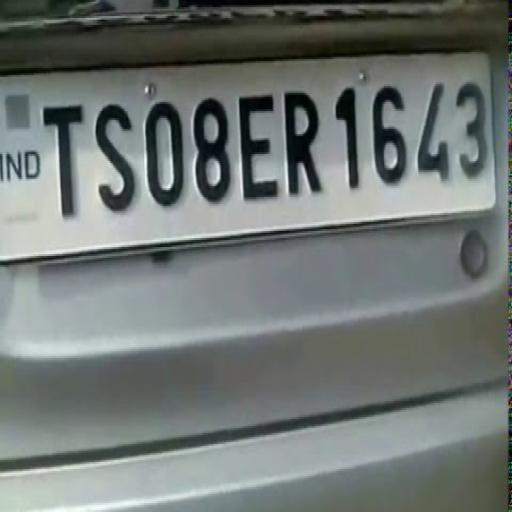License: (0, 70, 505, 225)
